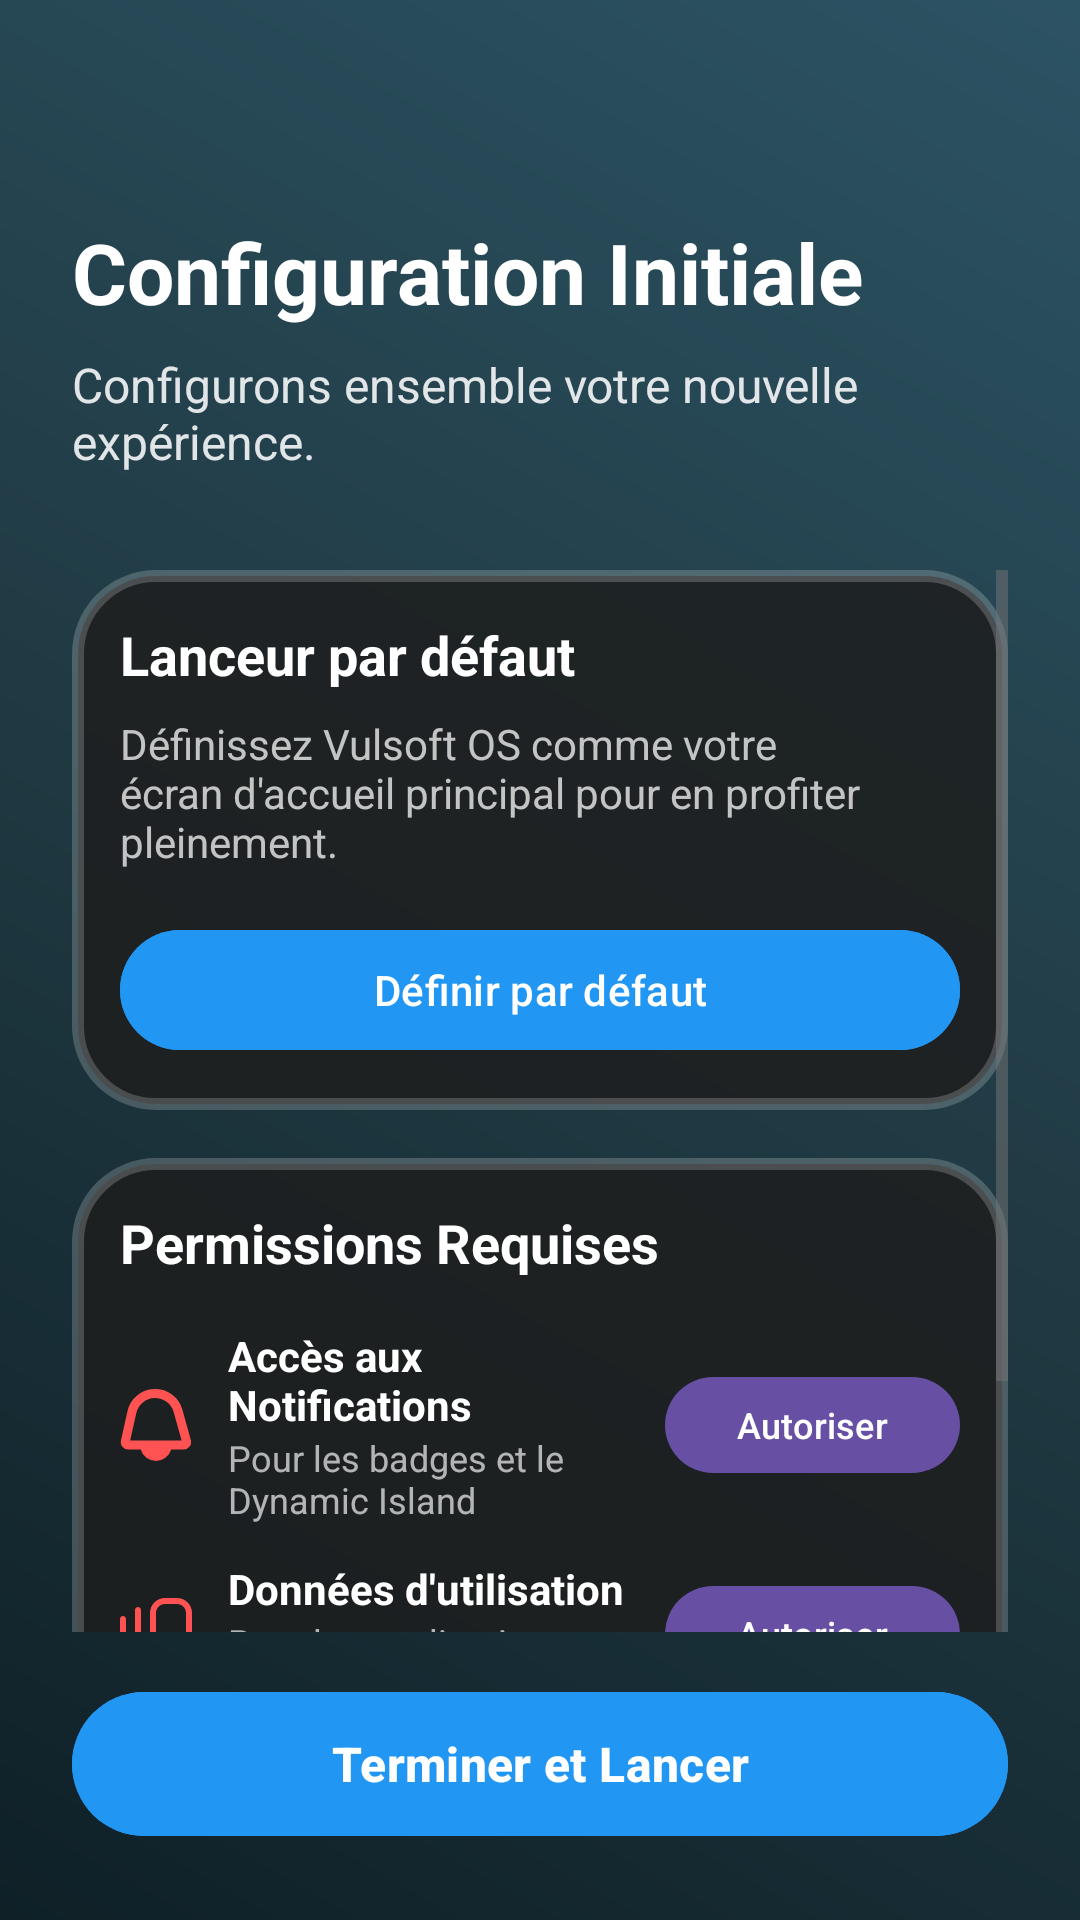

Where to tap for icons on this 1080×1920 app screen, as [x,y]:
bell: [155,1425]
